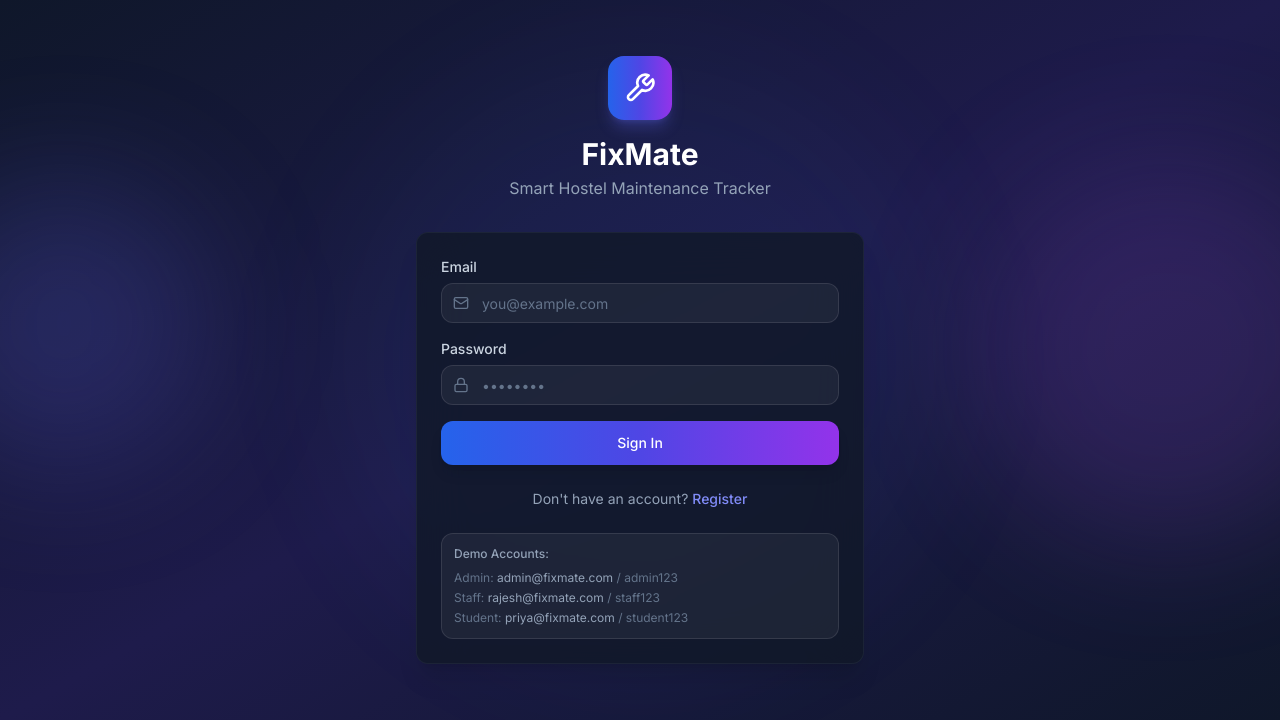
Test: LoginPage › shows email validation error for invalid format
The image size is (1280, 720).
In the field with placeholder "you@example.com": coordinates (640, 303) [441,283,839,323], type "invalid"
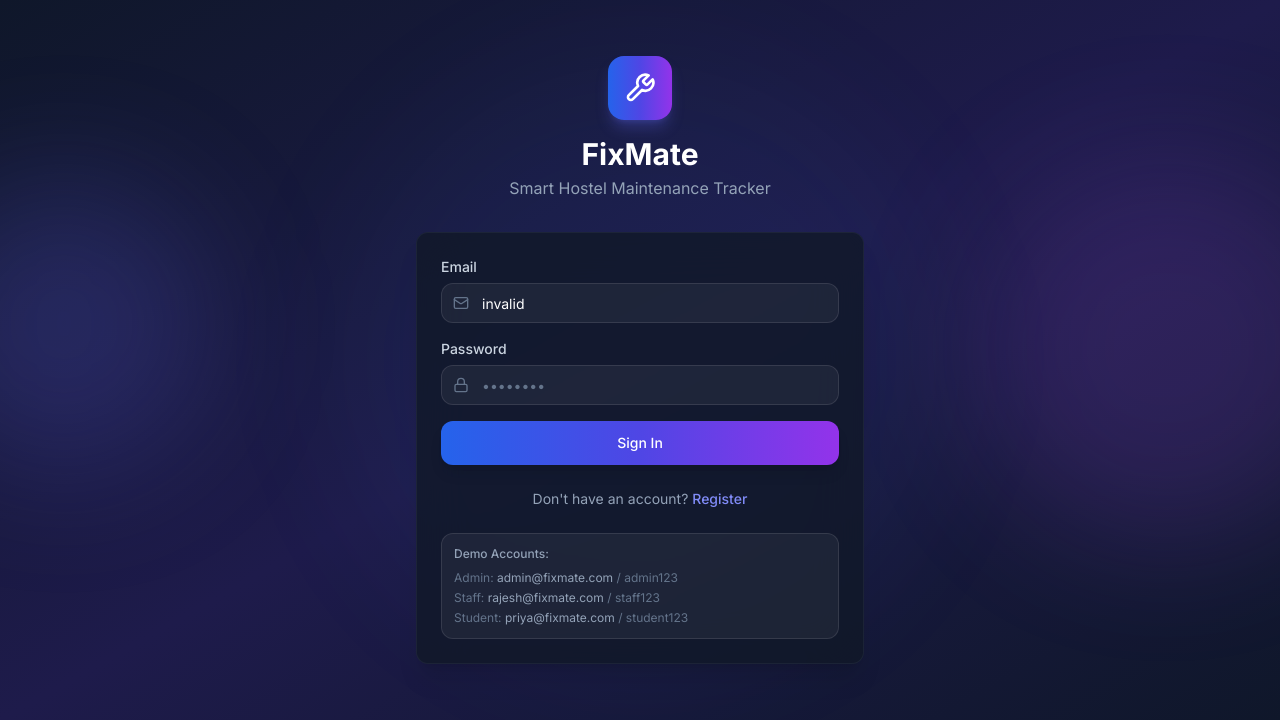
In the password field with placeholder "••••••••": coordinates (640, 385) [441,365,839,405], type "password123"
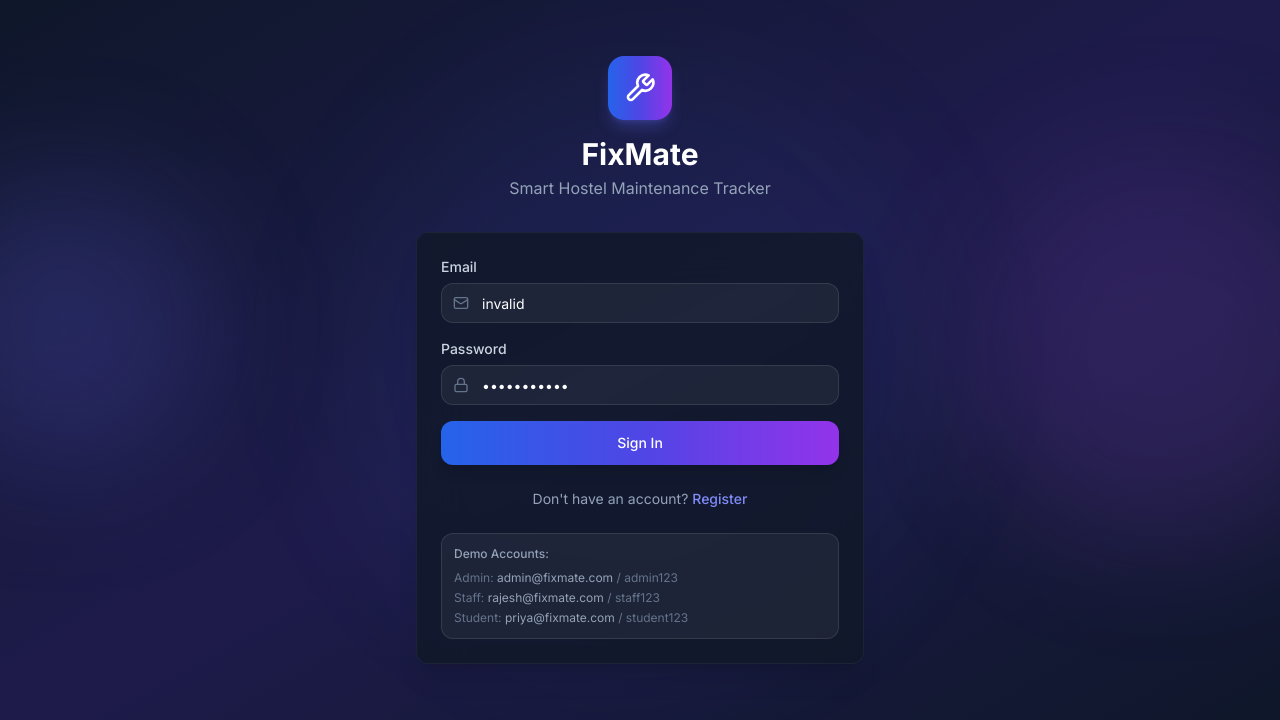
Click the button "Sign In": coordinates (640, 443) [441,421,839,465]
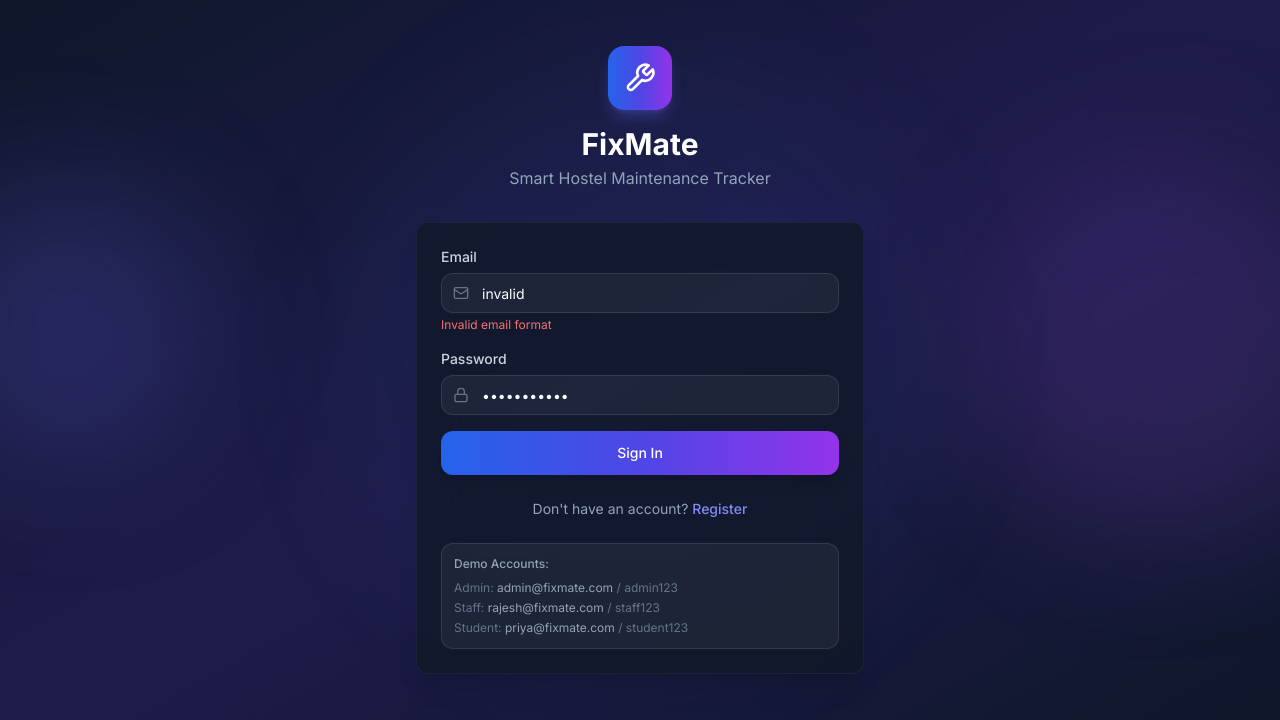
Expected: the text "Invalid email format" is shown, [441,317,552,332]
